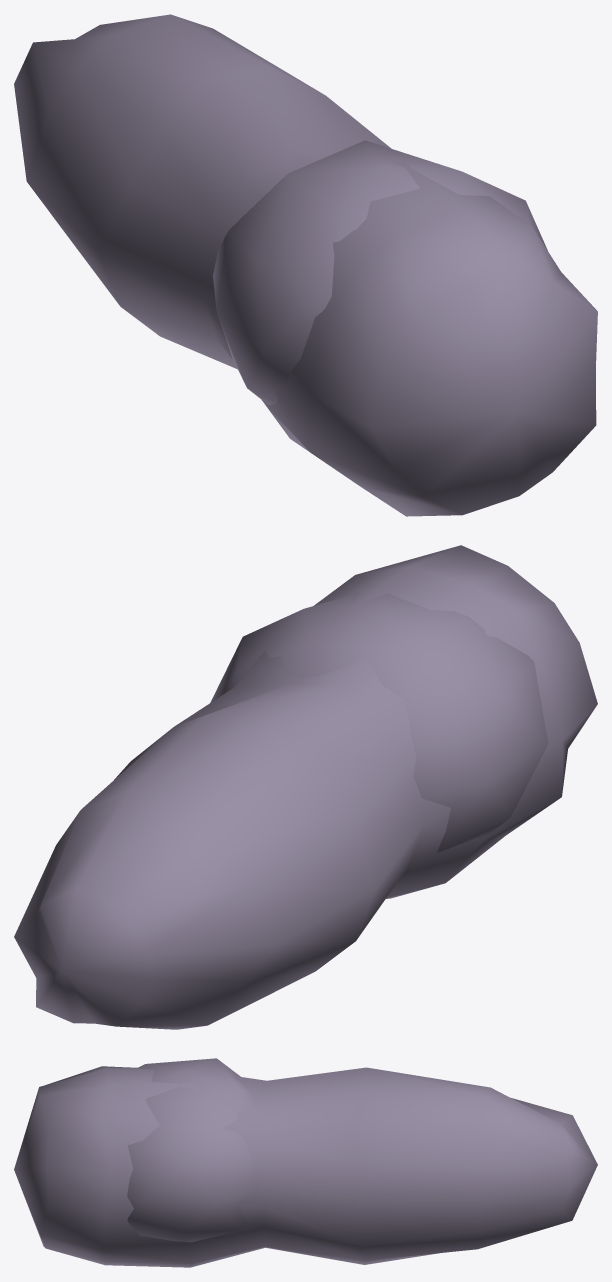
The model's file is moth.glb.
3 renders of one model, top to bottom at view 1: azimuth 30°, elevation 25°; view 2: azimuth 150°, elevation 25°; view 3: azimuth 270°, elevation 25°, orthographic. The views are drawn at different scales.
Parts seen in each view (by area): view 1: body; view 2: body; view 3: body.
Part boxes in pixels (x1=…): body: x1=14, y1=14, x2=597, y2=516; body: x1=14, y1=545, x2=597, y2=1029; body: x1=14, y1=1058, x2=597, y2=1267.
Bounding box in the file's own units: 0.3215 × 0.3073 × 0.8455.
